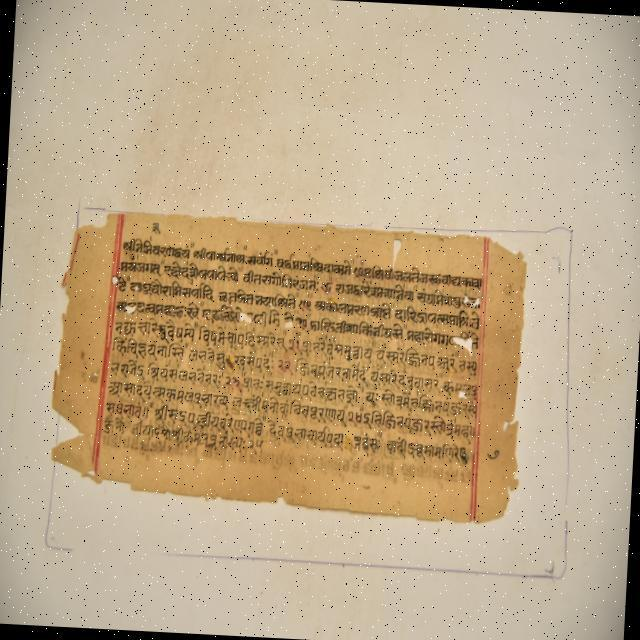text_paragraph: (64, 210, 525, 522)
